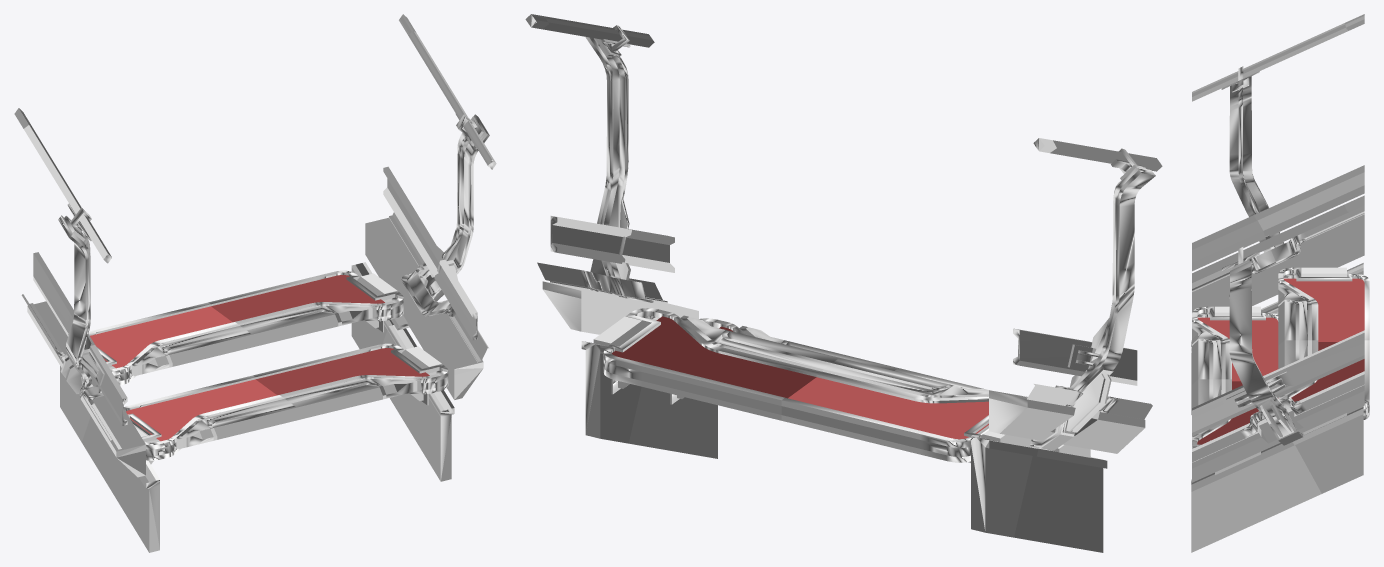
The model's file is ind_stairs_a_mid_b.glb.
The picture shows the model from 3 angles, left to right: view 1: azimuth 30°, elevation 25°; view 2: azimuth 150°, elevation 25°; view 3: azimuth 270°, elevation 25°; orthographic projection. The views are drawn at different scales.
Bounding box in the file's own units: 2.72 × 2.41 × 1.03.
